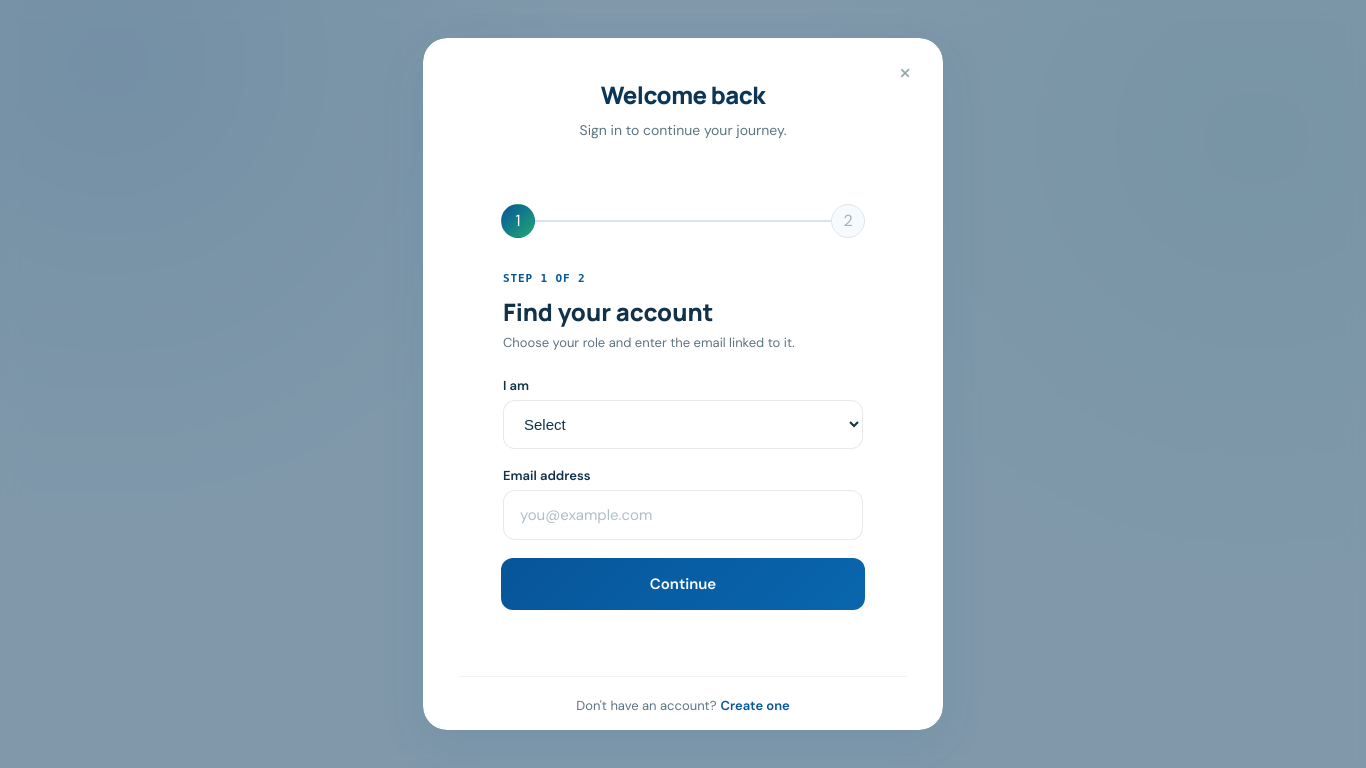
AuthModal › reports a missing token in the response
Select "Looking for work" in the dropdown with id "auth-role" at (683, 424), box [503,400,863,449]
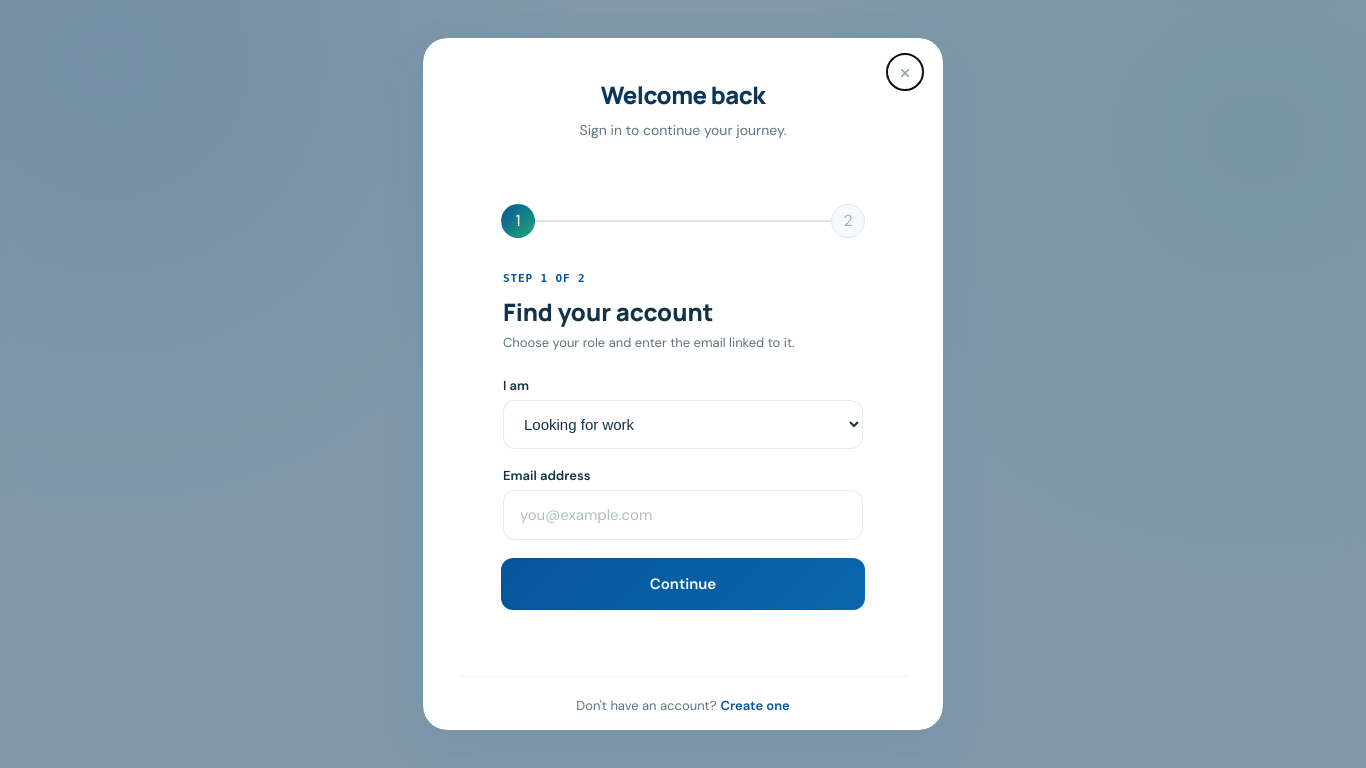
Type "person@example.com" into the field with id "auth-login-email" at (683, 515), box [503,490,863,540]
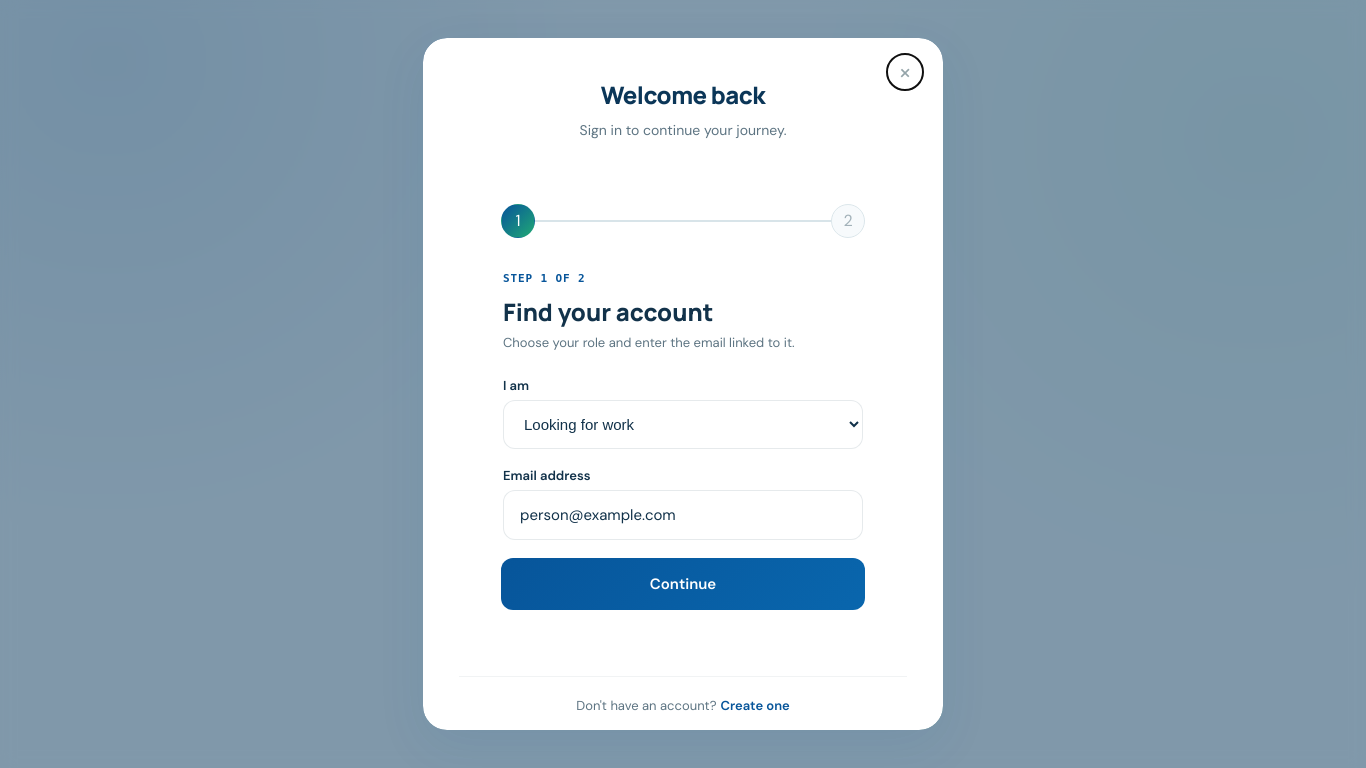
Click the button with class "auth-form__submit" at (683, 584), box [501,558,865,610]
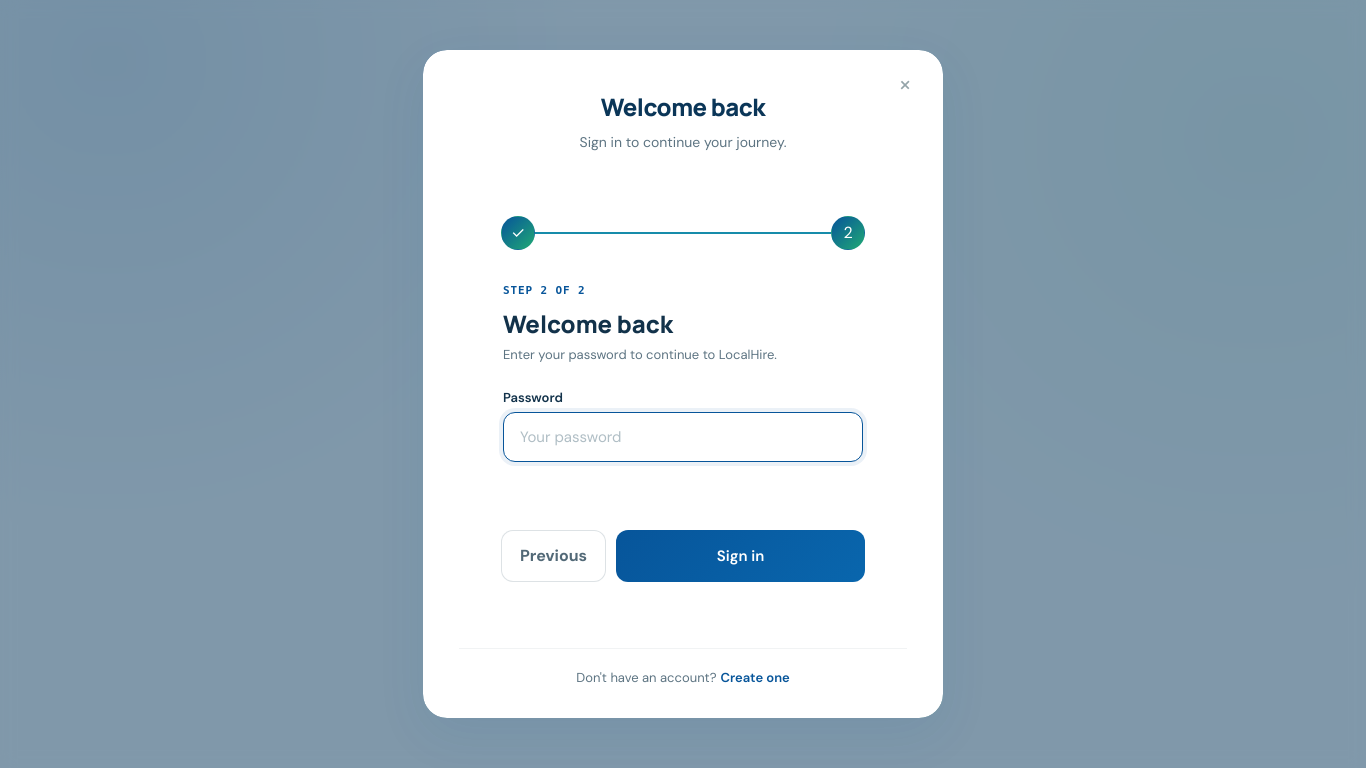
Type "Password1!" into the password field with id "auth-password" at (683, 437), box [503,412,863,462]
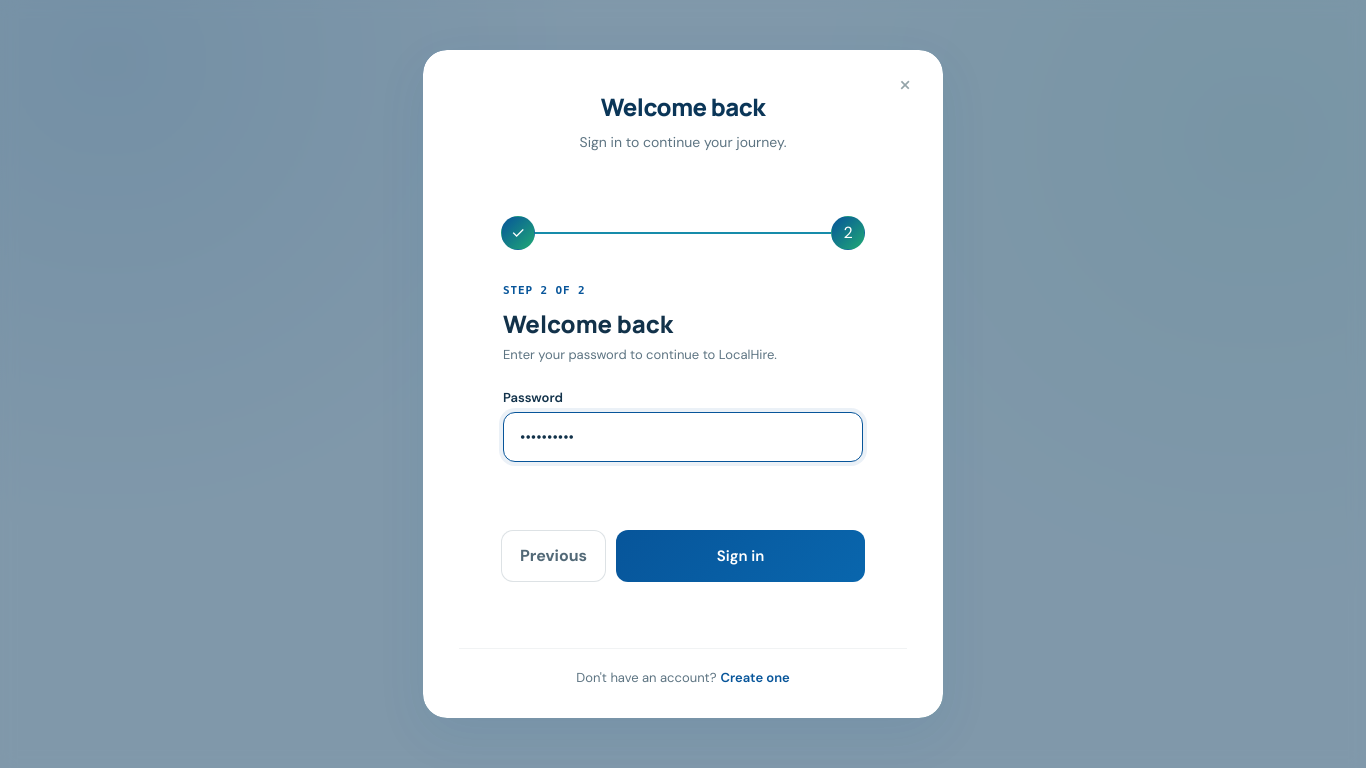
Submit the form, box [501,216,865,582]
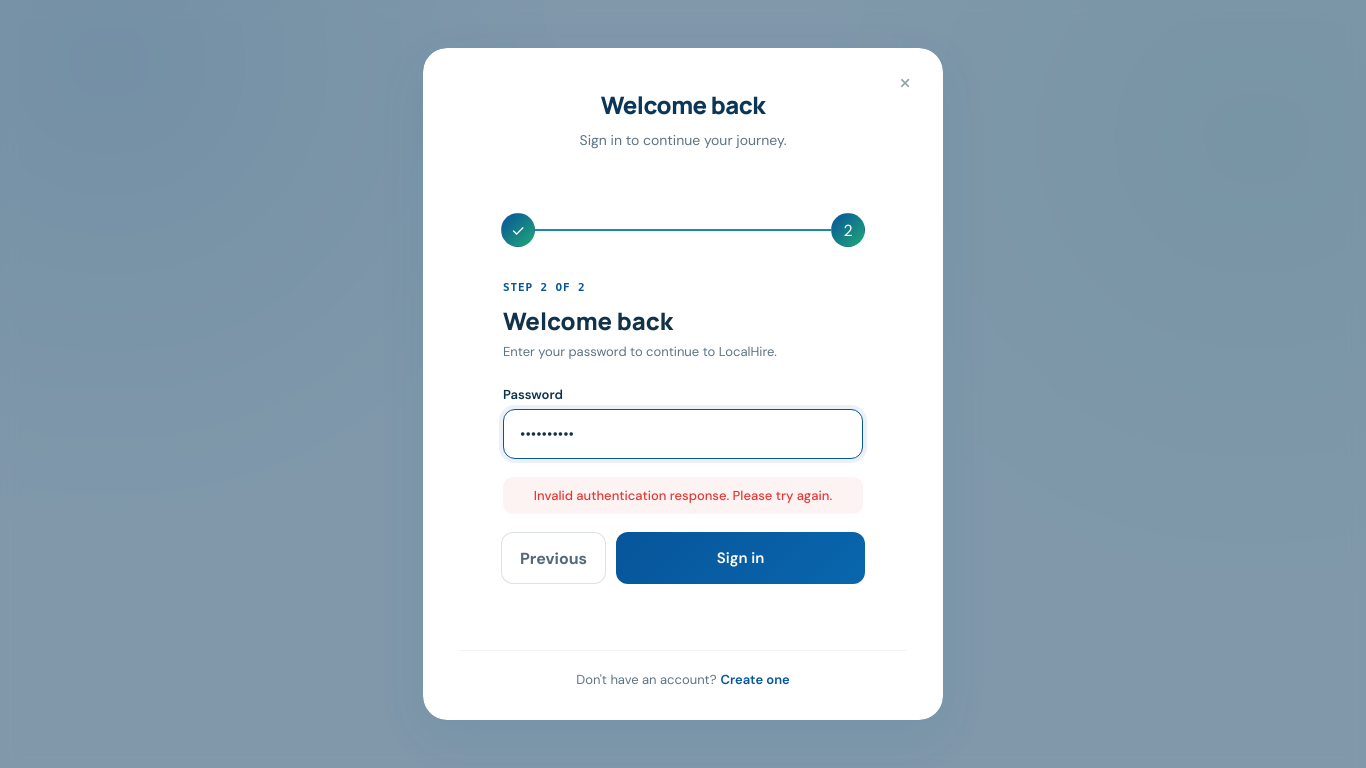
Check: the text with class "auth-form__error" reads "Invalid authentication response. Please try again.", box [534,487,832,504]
